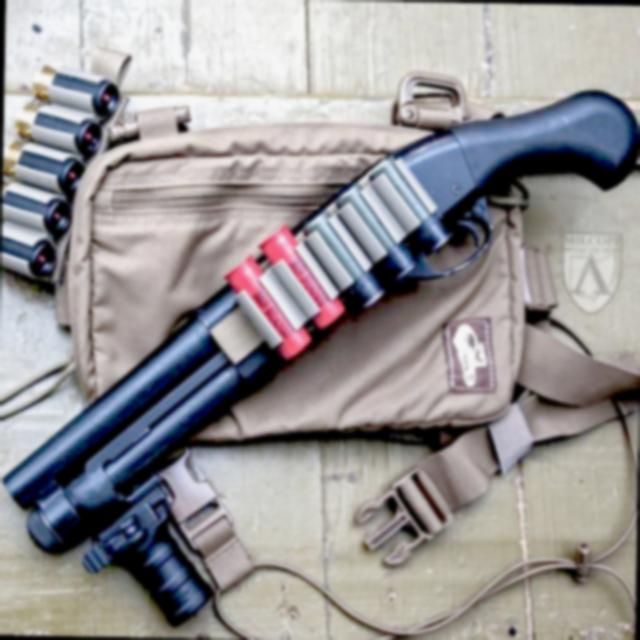shotgun: (5, 71, 640, 613)
